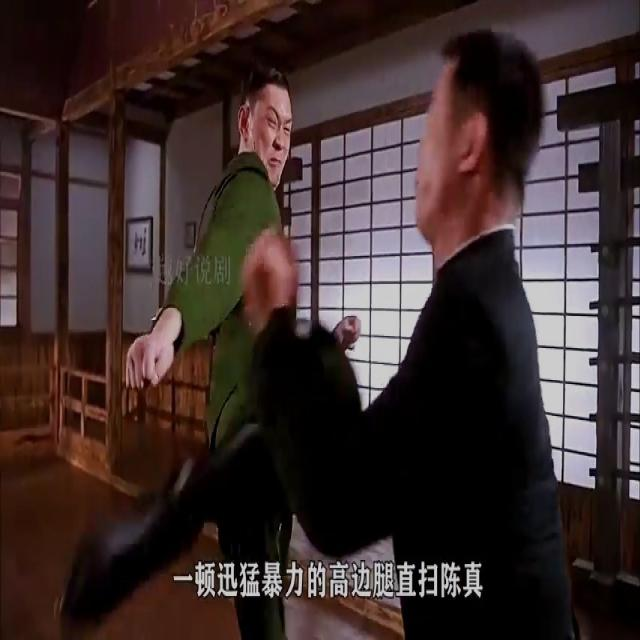fight: (46, 25, 584, 639)
